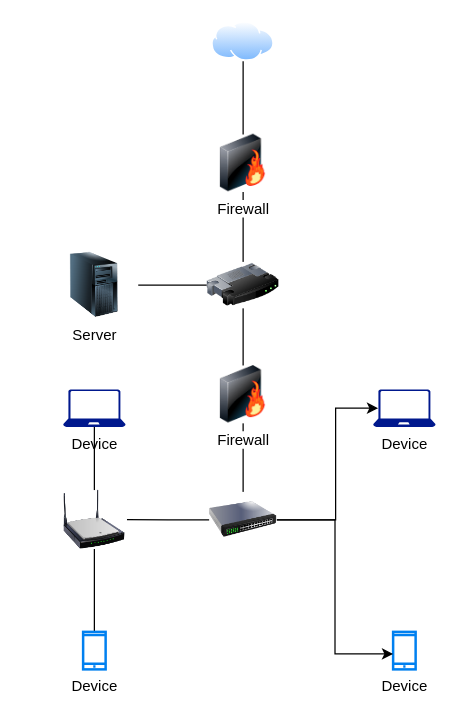
Some shapes in this 456 by 716 pixel diagram are drawn without their labels. Here are the shapes that lost their labels. From the top down, the centre of each, then its label:
pixel 242 41: Internet
pixel 242 284: Router
pixel 93 519: Wireless access point
pixel 242 519: Switch
